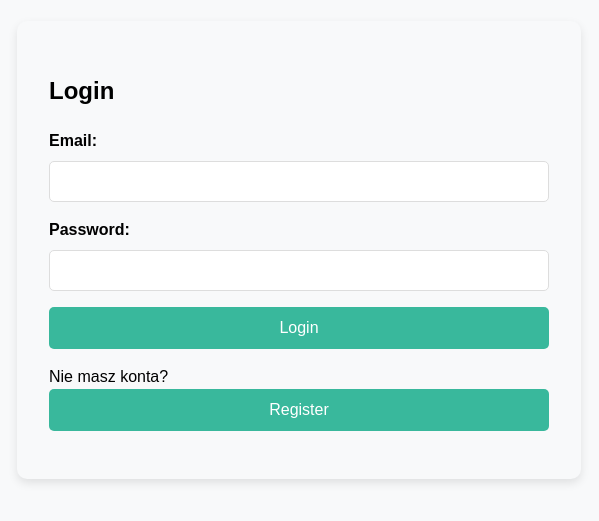
Test: shows error message on failed login
The image size is (599, 521).
Type "wrong@example.com" into the field labelled "Email:".
click(299, 181); type("wrong@example.com")  # box [49,161,549,202]
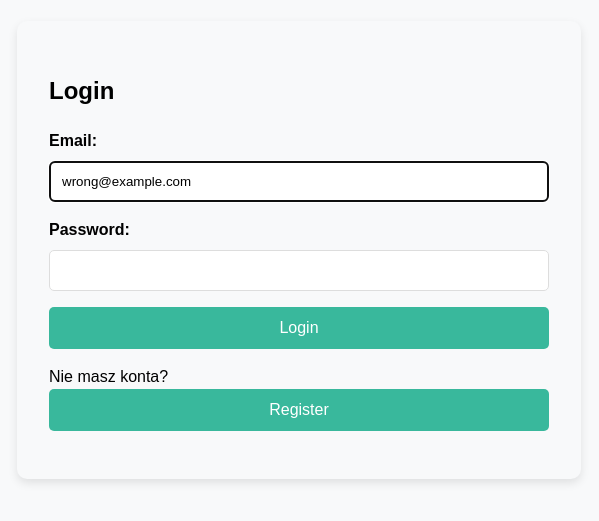
Type "wrongpassword" into the password field labelled "Password:".
click(299, 270); type("wrongpassword")  # box [49,250,549,291]
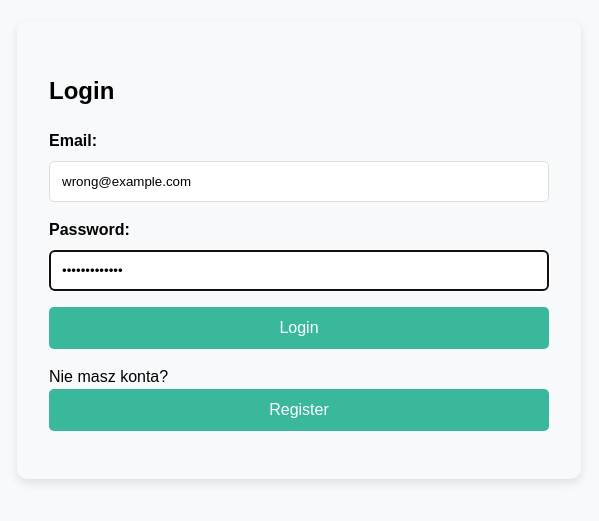
Click the button "Login".
click(299, 328)  # box [49,307,549,349]
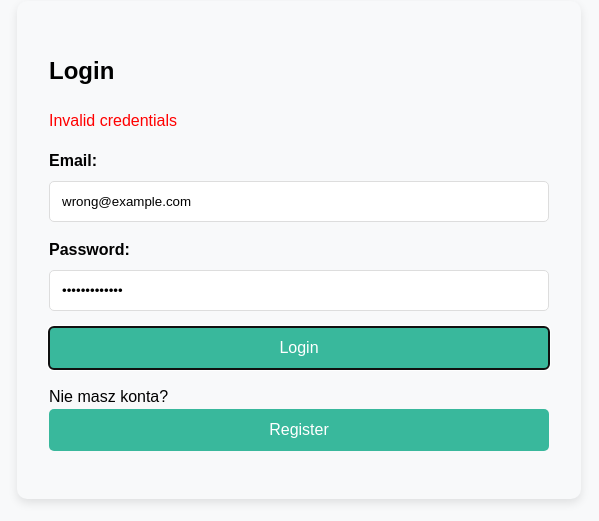
Result: the text "Invalid credentials" is shown at [49,112,177,129]
